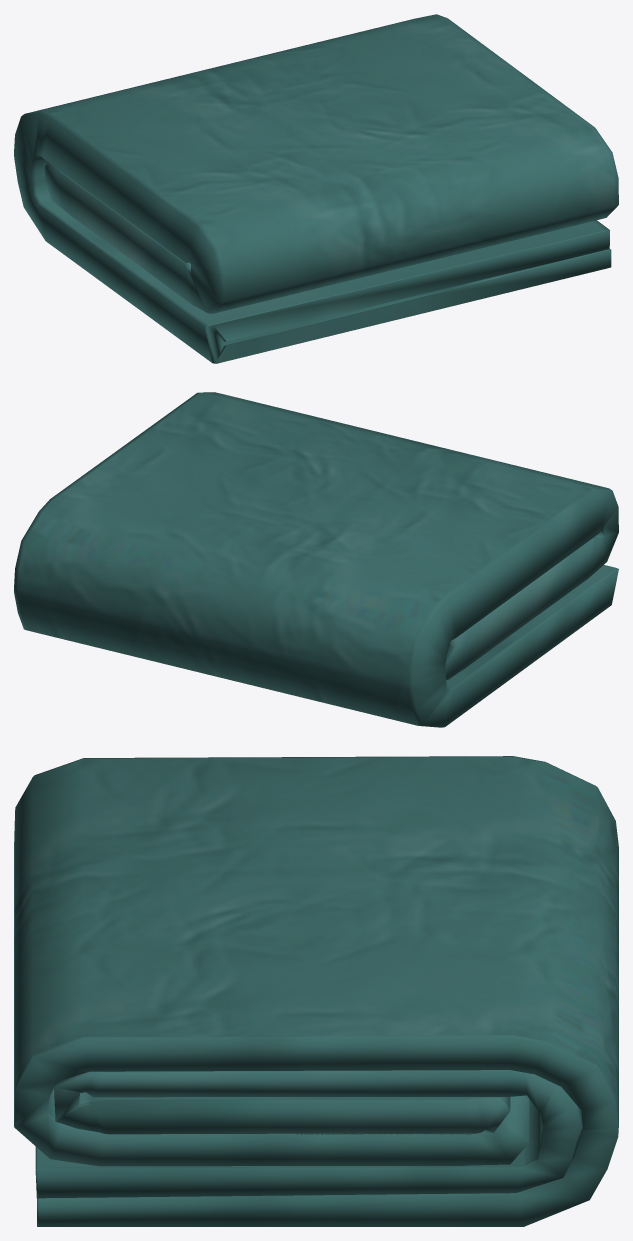
File: 10. N_eichhron_platform (1).fbx
3 views of the same model, one above another, from view 1: azimuth 30°, elevation 25°; view 2: azimuth 150°, elevation 25°; view 3: azimuth 270°, elevation 25° (orthographic). The views are drawn at different scales.
Visible parts, largest first — view 1: 8. N_eichhron_platform (1); view 2: 8. N_eichhron_platform (1); view 3: 8. N_eichhron_platform (1).
Boxes of the visible parts, x1=… form: 8. N_eichhron_platform (1): x1=14, y1=14, x2=618, y2=363; 8. N_eichhron_platform (1): x1=14, y1=392, x2=618, y2=727; 8. N_eichhron_platform (1): x1=14, y1=756, x2=618, y2=1226.
Bounding box in the file's own units: 0.3238 × 0.0987 × 0.2857.
